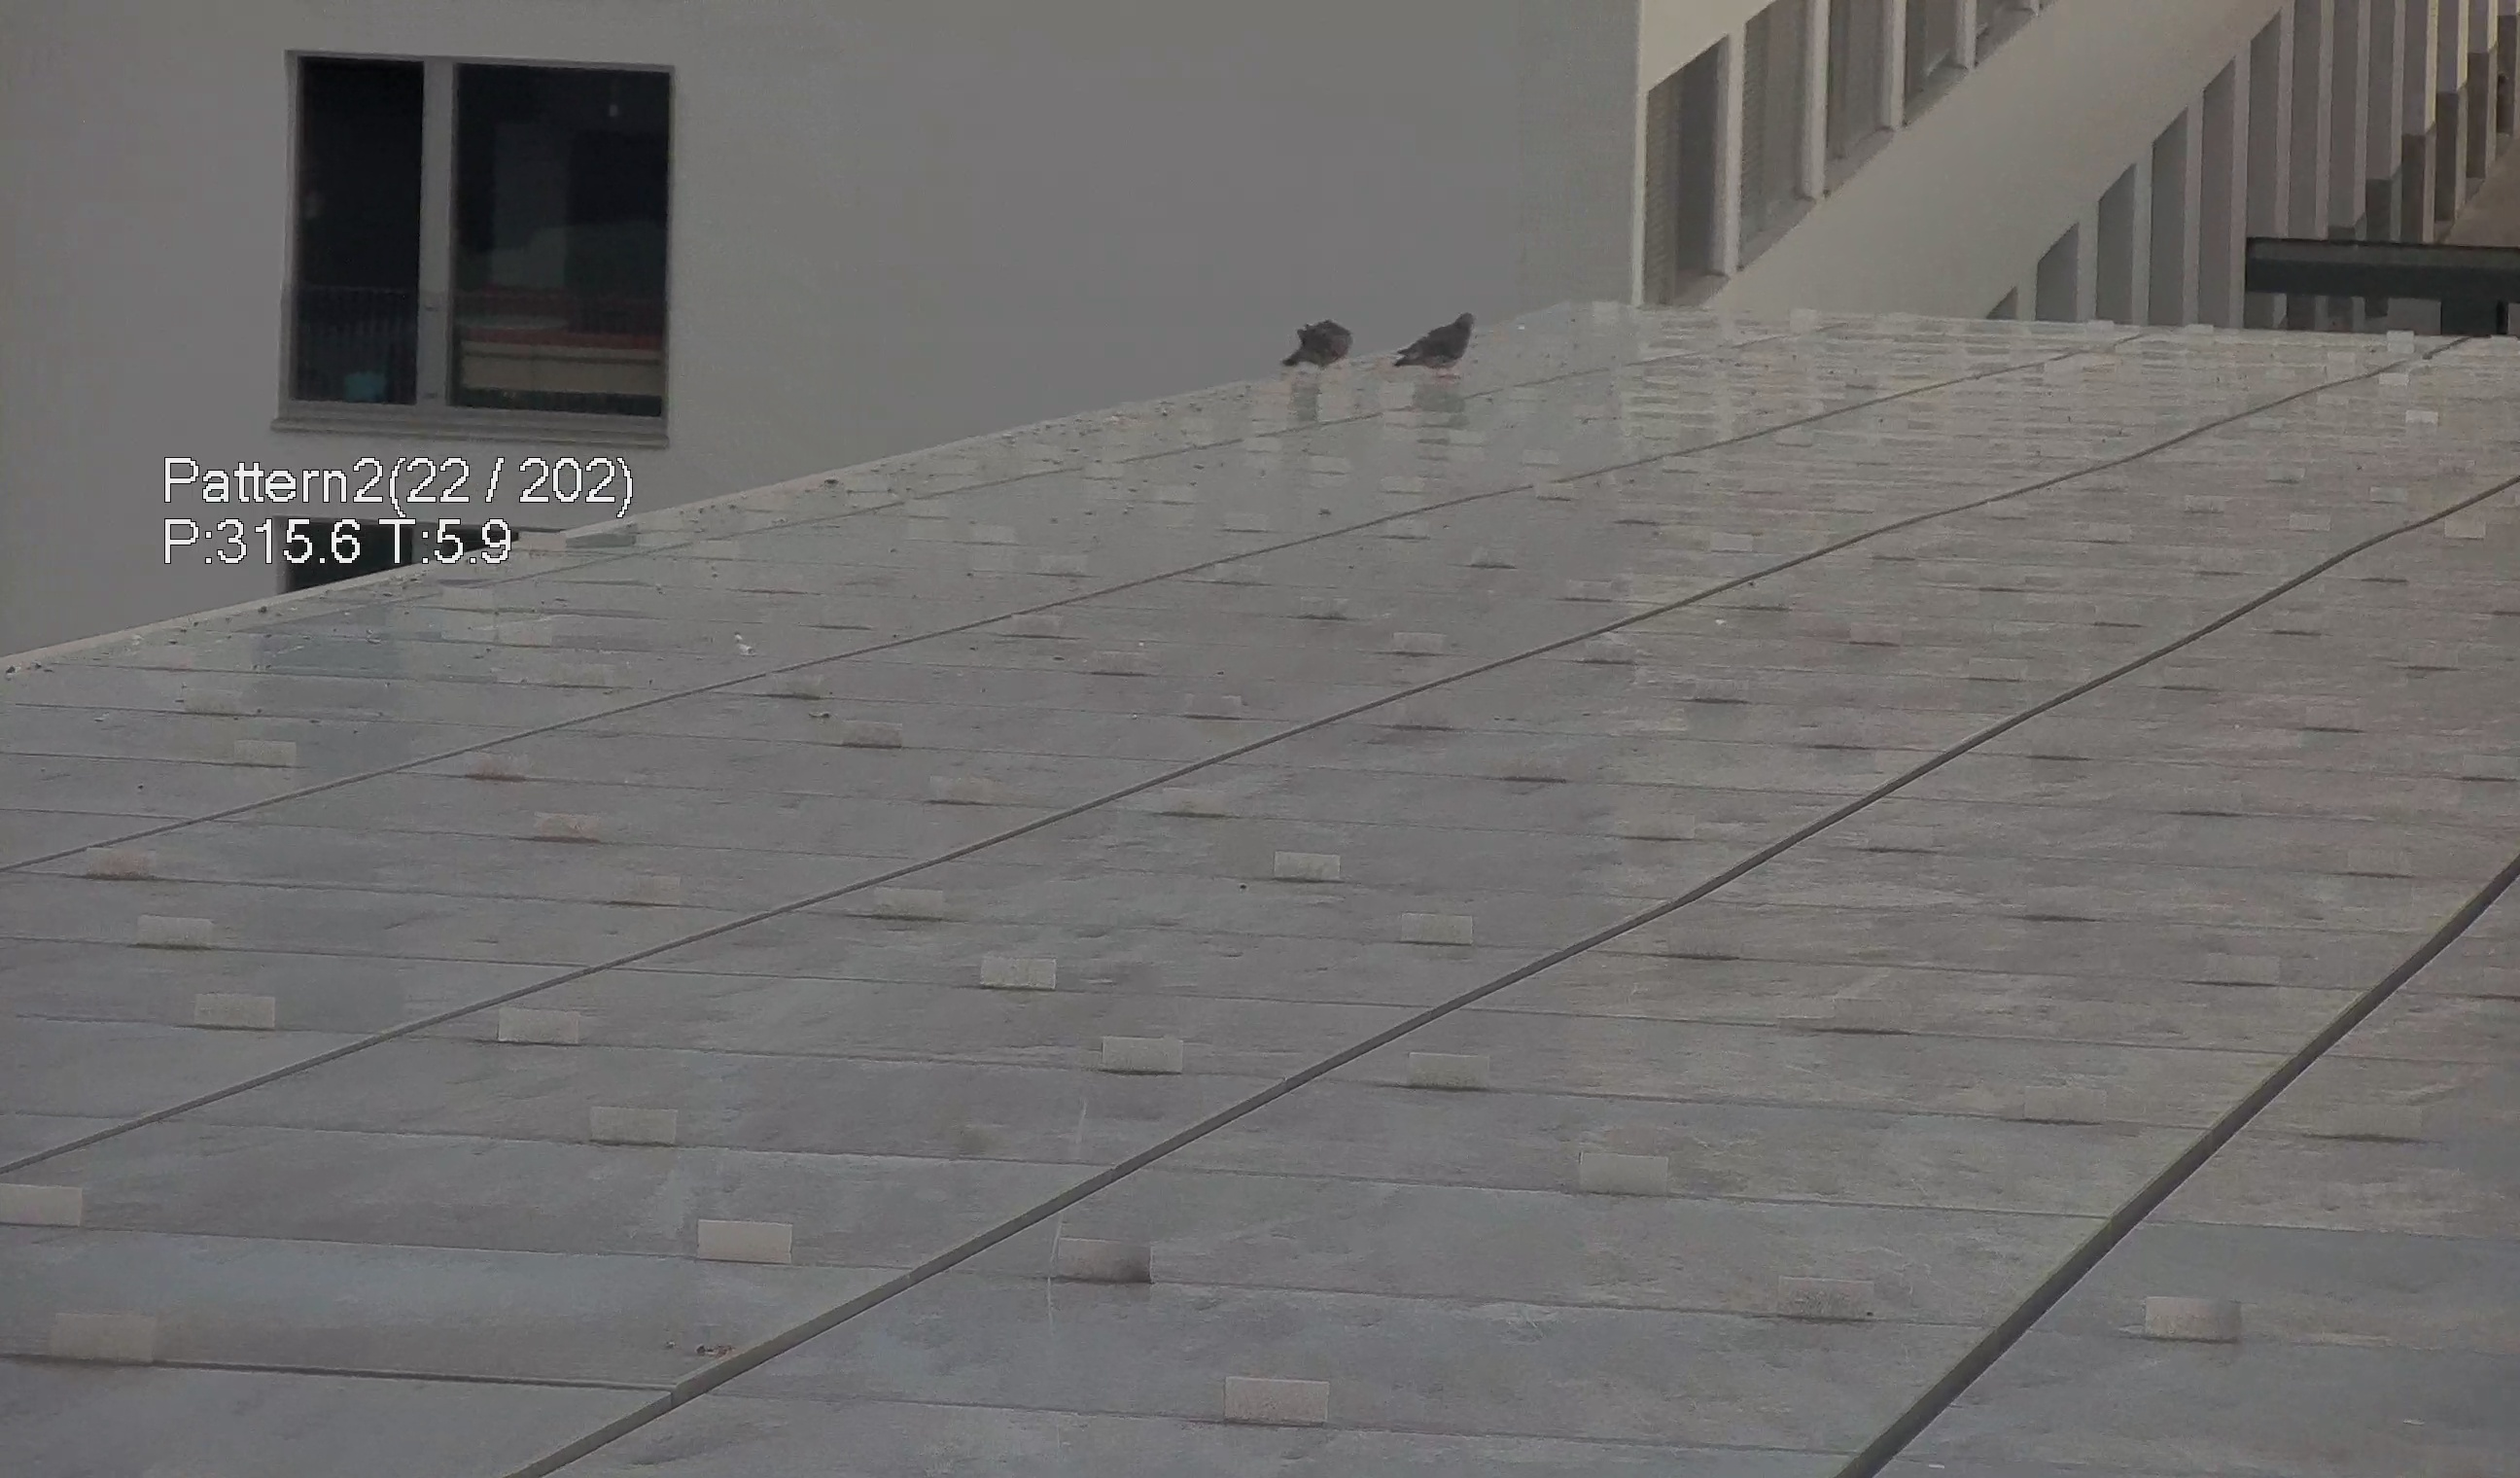Pigeon: (1375, 299, 1482, 377), (1280, 303, 1365, 377)
